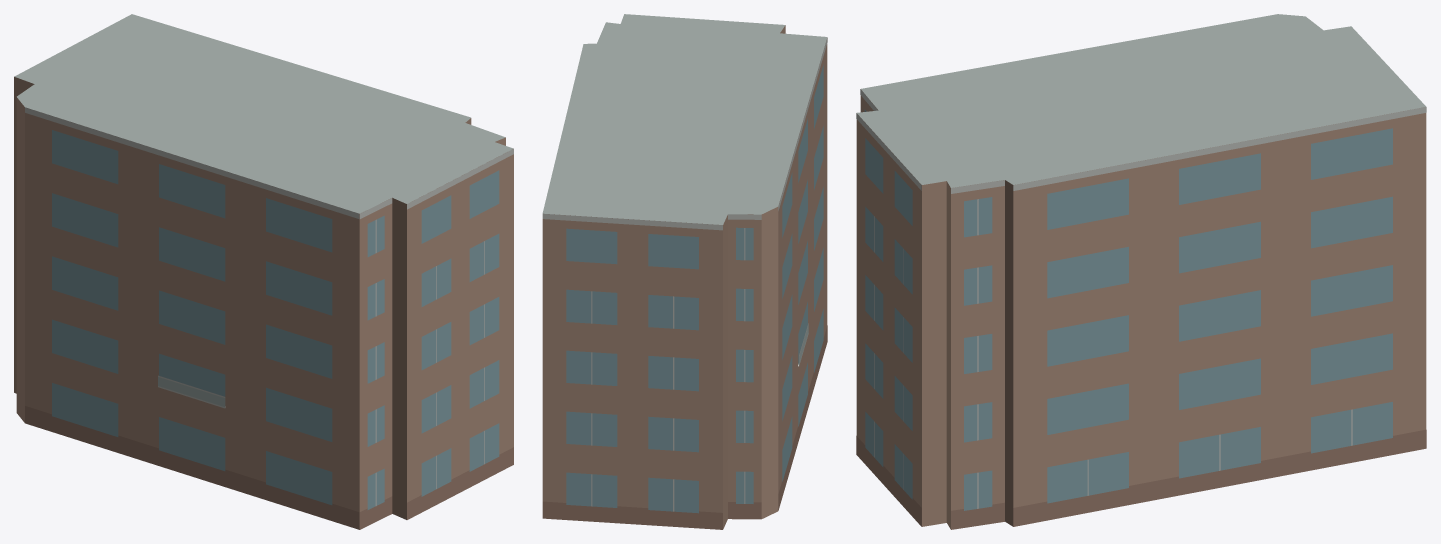
The model's file is survey-upis-32924527.glb.
3 views of the same model, side by side, from view 1: azimuth 30°, elevation 25°; view 2: azimuth 150°, elevation 25°; view 3: azimuth 270°, elevation 25° (orthographic). The views are drawn at different scales.
Visible parts, largest first — view 1: survey-upis-32924527.tmp; view 2: survey-upis-32924527.tmp; view 3: survey-upis-32924527.tmp.
Part boxes in pixels (x1,y1,x2,y2): survey-upis-32924527.tmp: [14, 14, 513, 529]; survey-upis-32924527.tmp: [542, 14, 827, 529]; survey-upis-32924527.tmp: [856, 14, 1426, 529].
Size of the model in its own units: 15.19 by 13.9 by 21.02.
